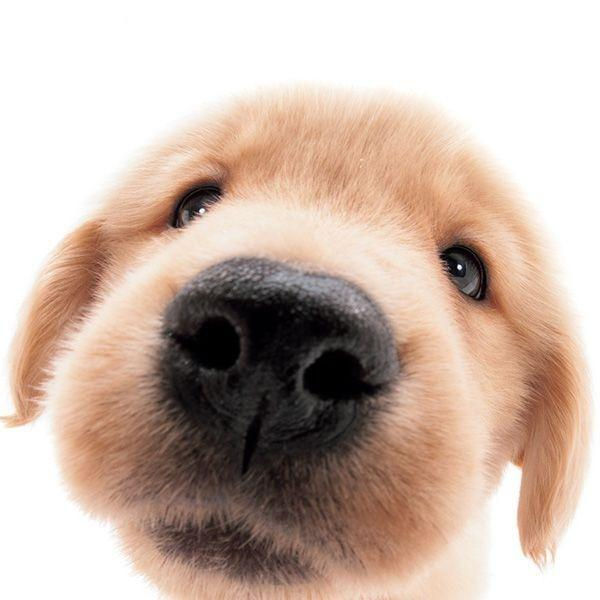puppy-dog: (6, 75, 593, 599)
